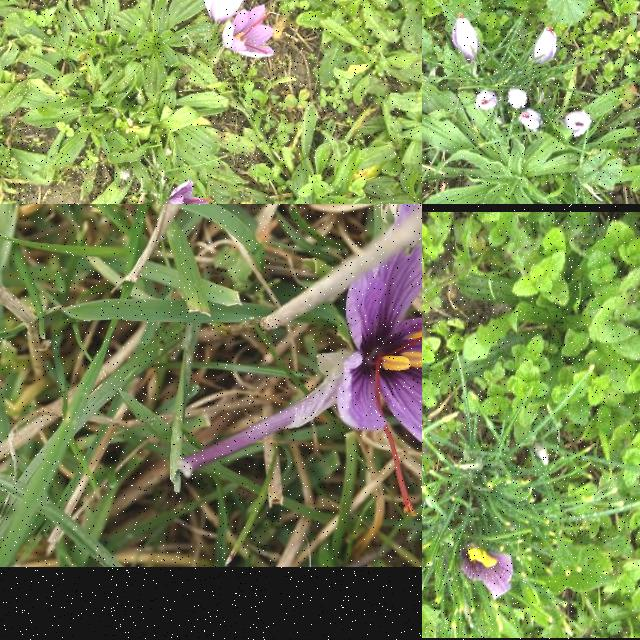flower: (336, 204, 422, 517), (222, 5, 276, 58), (452, 14, 478, 61), (165, 182, 213, 204), (203, 0, 253, 21), (534, 26, 558, 64), (564, 110, 592, 138), (518, 111, 544, 131), (476, 90, 498, 110), (508, 88, 528, 110)
